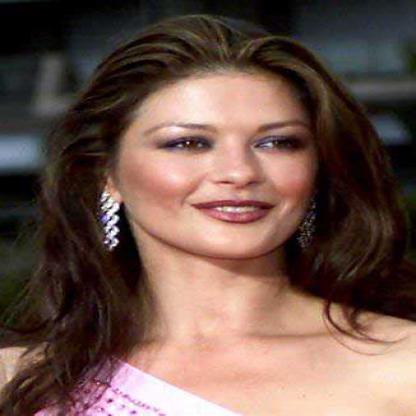face: (113, 37, 331, 263)
